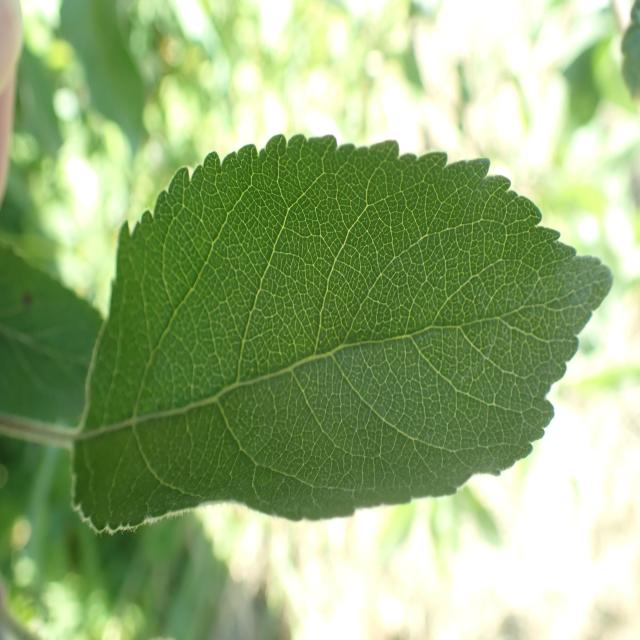healthy: (71, 133, 613, 534), (0, 240, 105, 431)
